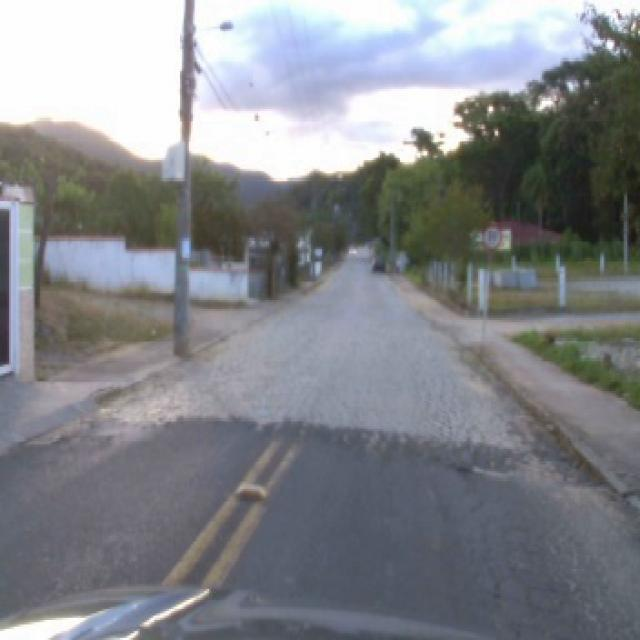Poth-hole: (452, 442, 572, 480), (232, 480, 266, 498)
